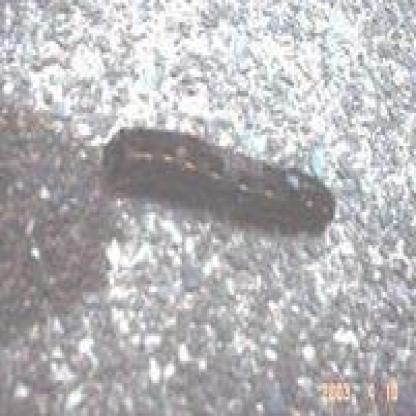armyworm: (96, 118, 342, 241)
